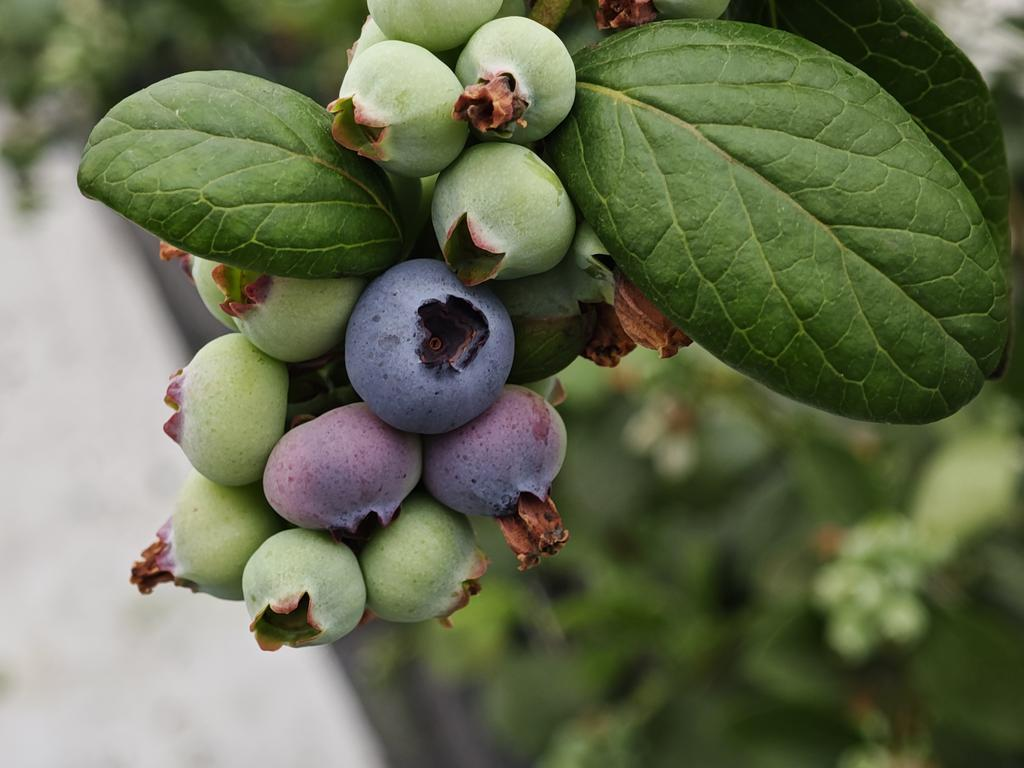RipeBlueBerry: (351, 262, 514, 429)
UnripeBlueBerry: (332, 37, 471, 180), (166, 331, 284, 491), (244, 528, 371, 652)
